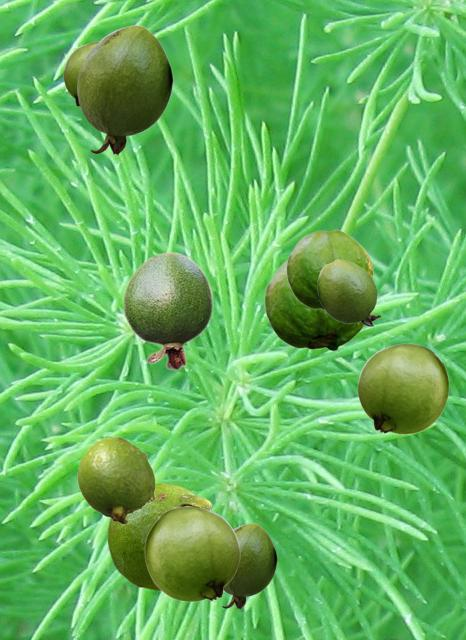guava: (77, 25, 172, 154), (107, 483, 212, 590), (122, 251, 213, 370), (144, 506, 239, 601), (264, 260, 364, 350), (357, 343, 448, 433), (286, 229, 372, 310), (77, 436, 154, 523), (221, 523, 276, 608), (317, 259, 380, 325), (63, 41, 98, 108)
